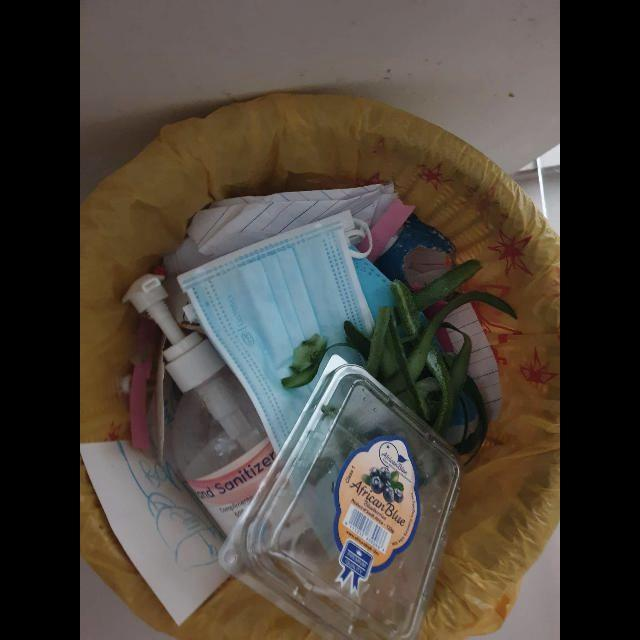cardboard: (80, 442, 228, 625)
left_over_food: (366, 260, 516, 456), (281, 321, 371, 390)
paper: (187, 183, 398, 258)
plastic_bottle: (122, 274, 276, 534)
plastic_container: (218, 355, 460, 640)
